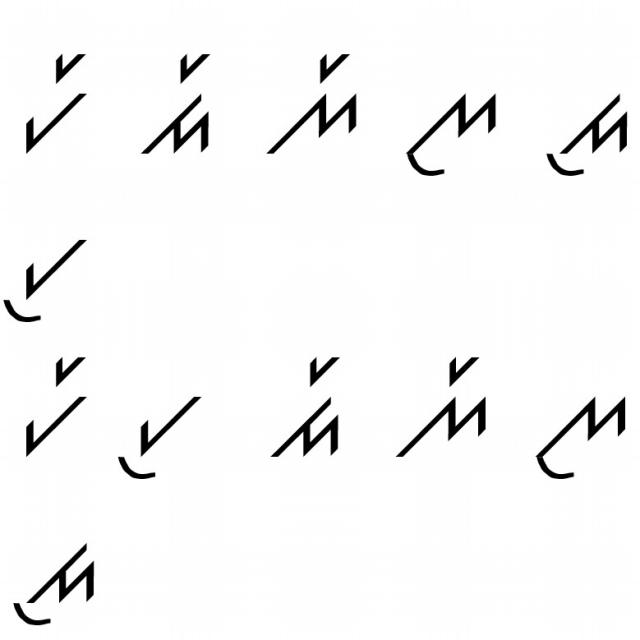dar: (267, 344, 352, 471), (134, 45, 224, 162)
daw: (7, 517, 106, 636), (535, 76, 630, 190)
nar: (254, 46, 365, 164), (391, 342, 494, 467)
naw: (525, 376, 634, 492), (398, 80, 502, 190)
par: (15, 350, 101, 470), (17, 44, 100, 160)
paw: (112, 371, 216, 489), (1, 226, 94, 332)
